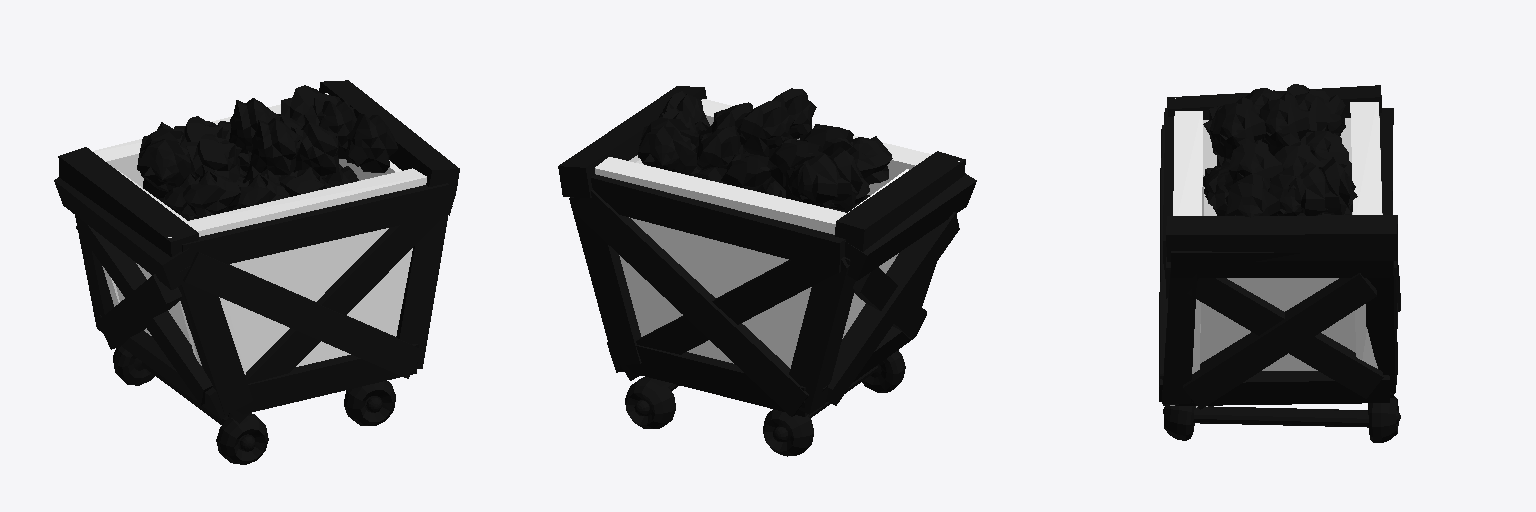
File: cart.obj
3 views of the same model, side by side, from view 1: azimuth 30°, elevation 25°; view 2: azimuth 150°, elevation 25°; view 3: azimuth 270°, elevation 25° (orthographic).
Parts seen in each view (by area): view 1: mesh_[number redacted]; view 2: mesh_[number redacted]; view 3: mesh_[number redacted].
Boxes of the visible parts, x1=… form: mesh_[number redacted]: x1=54, y1=80, x2=459, y2=464; mesh_[number redacted]: x1=558, y1=86, x2=976, y2=456; mesh_[number redacted]: x1=1159, y1=84, x2=1400, y2=442.
Bounding box in the file's own units: 63.93 × 62.98 × 44.41.